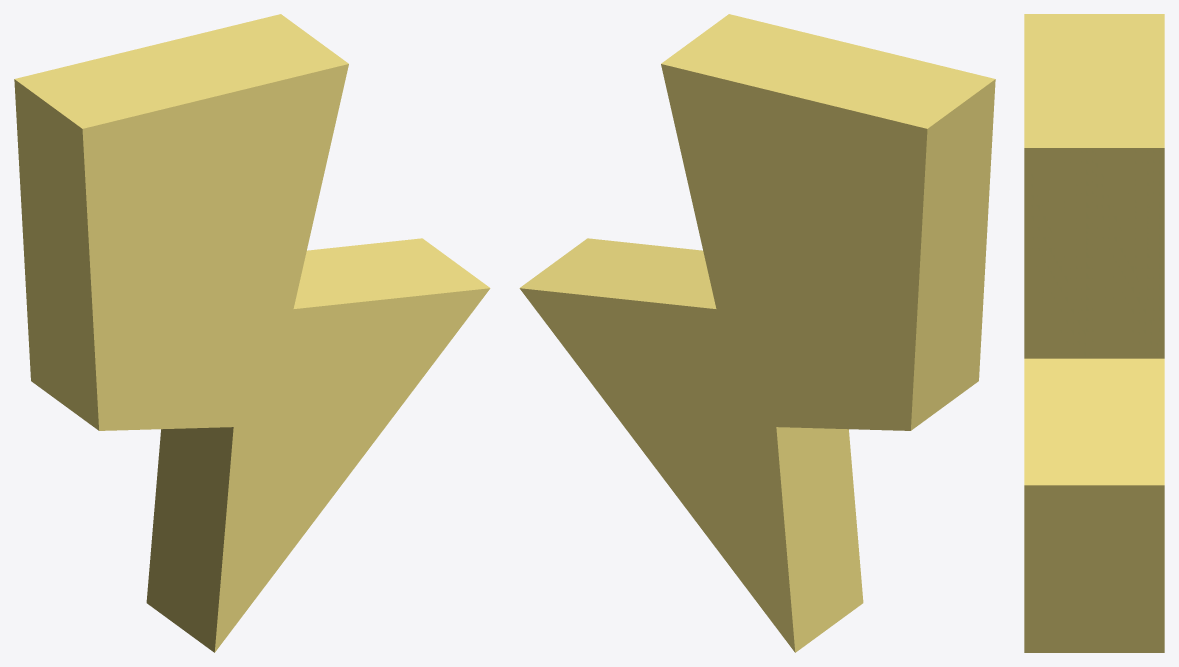
Rendered from electrictry mode;l.fbx.
3 renders of one model, left to right at view 1: azimuth 30°, elevation 25°; view 2: azimuth 150°, elevation 25°; view 3: azimuth 270°, elevation 25°, orthographic. The views are drawn at different scales.
Parts seen in each view (by area): view 1: pCube1; view 2: pCube1; view 3: pCube1.
Boxes of the visible parts, bbox=[...] form: pCube1: bbox=[14, 14, 490, 652]; pCube1: bbox=[519, 14, 995, 652]; pCube1: bbox=[1024, 14, 1164, 652].
Bounding box in the file's own units: 13.12 × 17.09 × 3.8.
